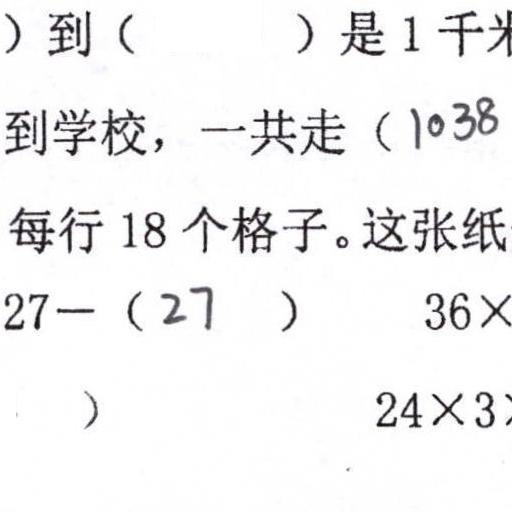ans: (407, 93, 503, 151), (155, 279, 214, 330)
